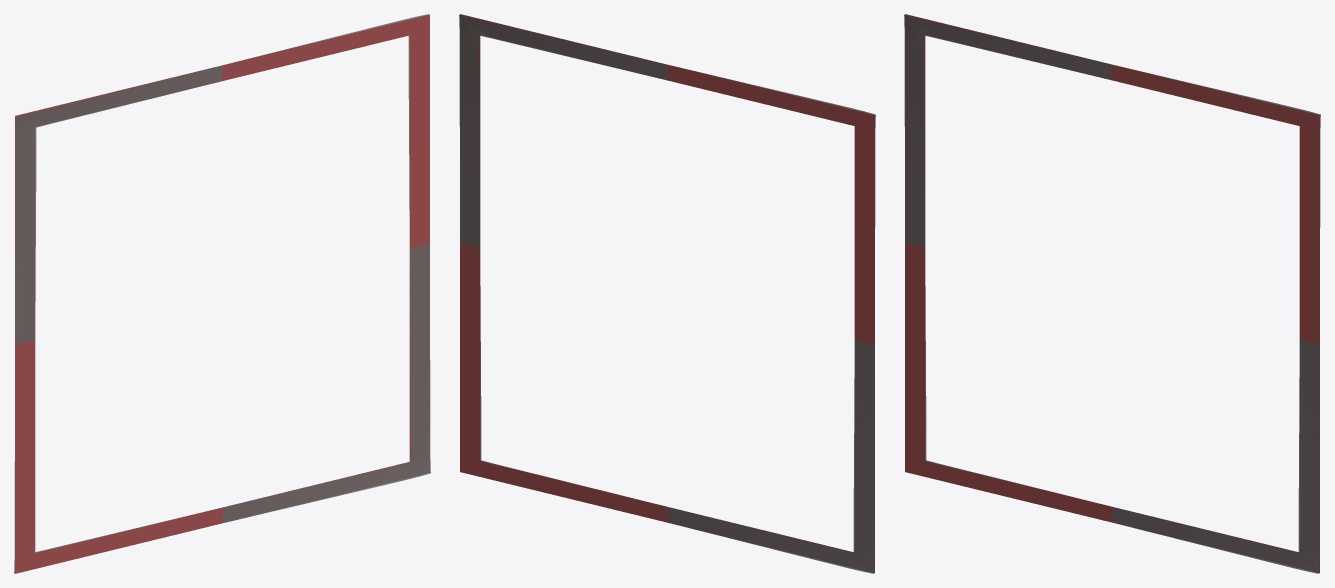
Rendered from warping-box-173-164-6-8-369.glb.
3 views of the same model, side by side, from view 1: azimuth 30°, elevation 25°; view 2: azimuth 150°, elevation 25°; view 3: azimuth 330°, elevation 25° (orthographic).
Parts seen in each view (by area): view 1: undeformed cross-section, cross-section with warping; view 2: undeformed cross-section, cross-section with warping; view 3: undeformed cross-section, cross-section with warping.
Boxes of the visible parts, x1,y1,x2,y2 form: undeformed cross-section: (15,14,429,573); cross-section with warping: (14,14,430,573); undeformed cross-section: (460,14,874,573); cross-section with warping: (459,14,875,573); undeformed cross-section: (905,14,1319,573); cross-section with warping: (904,14,1320,573).
Bounding box in the file's own units: 0.164 × 0.173 × 0.00198.
